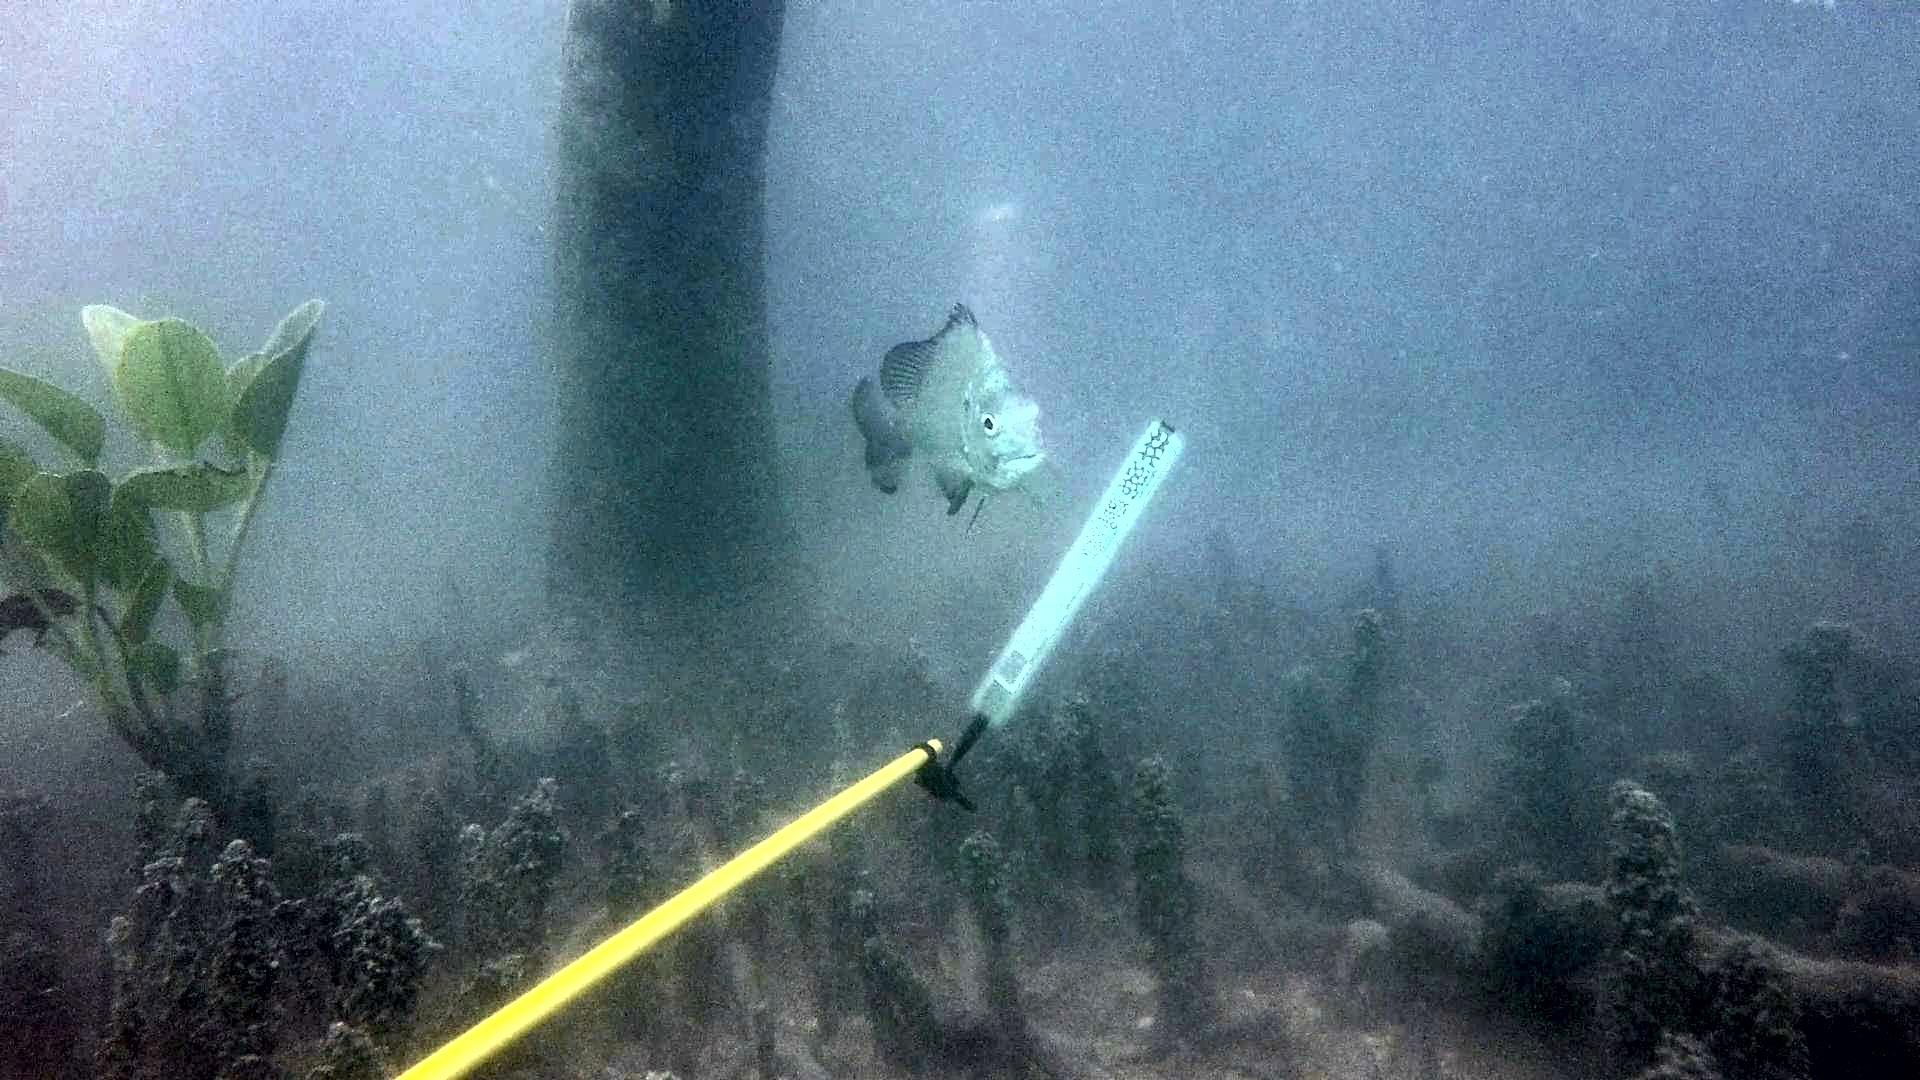acanthopagrus palmaris: (836, 289, 1066, 534)
